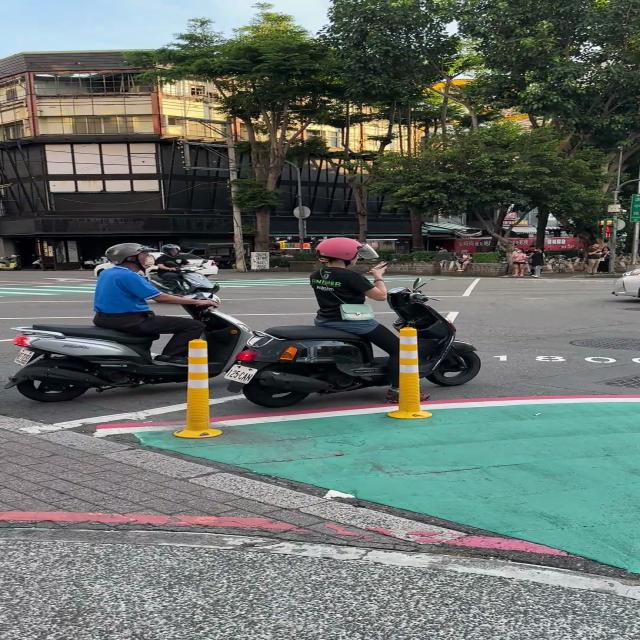Flexible_delineator_post: (174, 340, 221, 438), (386, 328, 432, 419)
car: (611, 266, 640, 298)
crosswalk: (0, 283, 97, 298), (212, 276, 312, 288)
motocycle: (7, 325, 188, 401), (225, 325, 388, 408), (388, 280, 481, 386), (203, 310, 249, 375)
